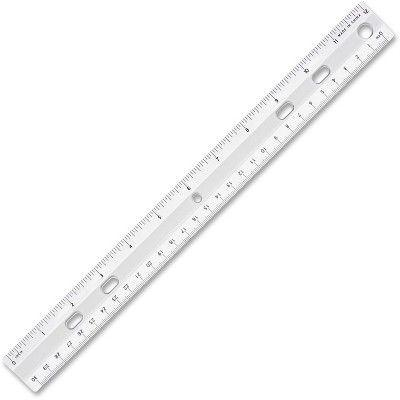PS: (2, 198, 198, 395), (196, 3, 394, 197)
